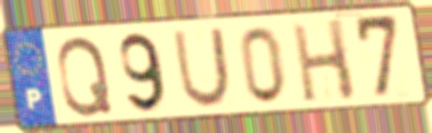0: (235, 23, 289, 107)
7: (351, 13, 404, 103)
9: (116, 30, 169, 115)
H: (288, 16, 360, 104)
Q: (54, 33, 116, 119)
U: (170, 25, 234, 111)
